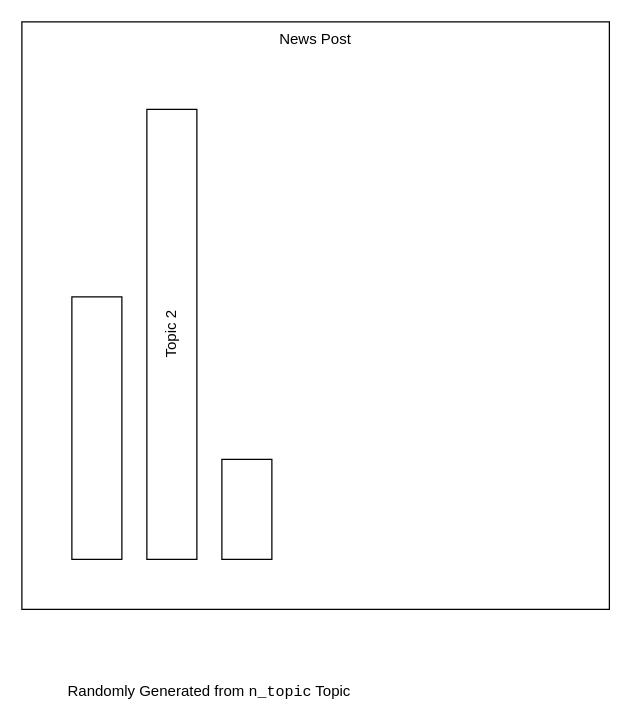
Image size: 631x726. Some labels were removed from this diagram. Each missing label, with the centre of its shape:
"Topic 1" goes at point (96, 427).
"Topic 3" goes at point (246, 508).
